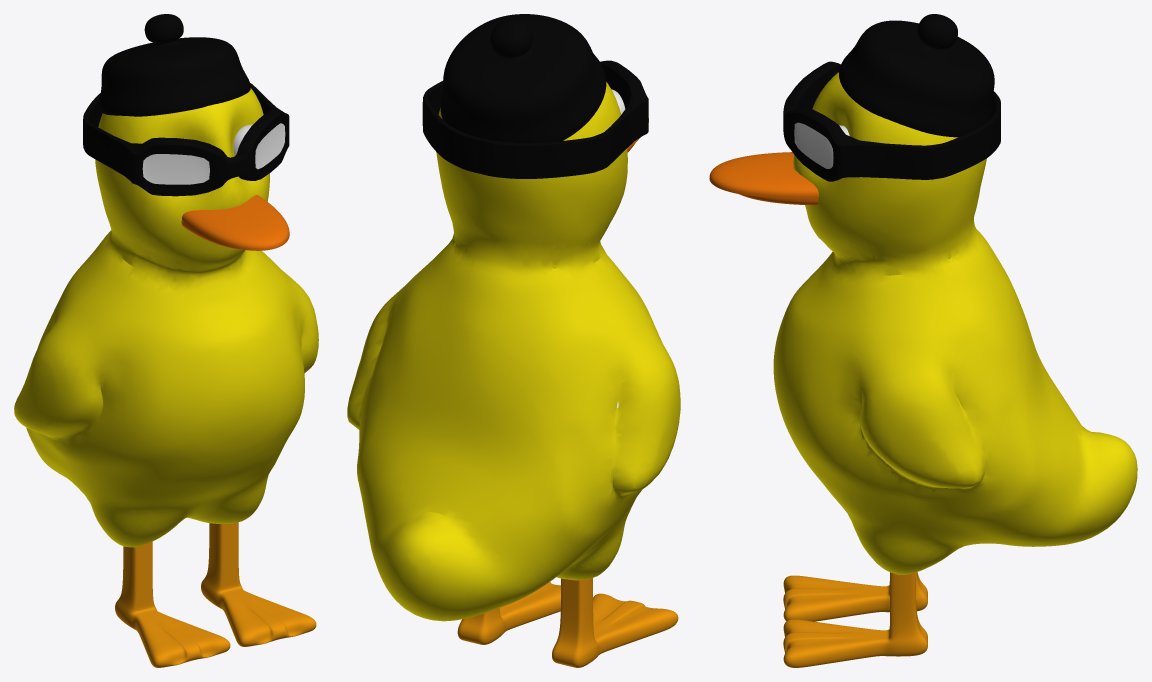
File: duck.glb
3 renders of one model, left to right at view 1: azimuth 30°, elevation 25°; view 2: azimuth 150°, elevation 25°; view 3: azimuth 270°, elevation 25°, orthographic. The views are drawn at different scales.
Visible parts, largest first — view 1: pato, patas, sombrero, lentes, pico; view 2: pato, sombrero, lentes, patas; view 3: pato, sombrero, patas, lentes, pico.
Part boxes in pixels (x1,y1,x2,y2): pato: (14, 88, 318, 547); patas: (115, 522, 316, 667); sombrero: (99, 14, 250, 116); lentes: (83, 83, 289, 196); pico: (181, 195, 289, 250); pato: (347, 82, 680, 621); sombrero: (440, 14, 606, 143); lentes: (422, 60, 648, 178); patas: (457, 578, 678, 667); pato: (773, 72, 1137, 574); sombrero: (839, 14, 994, 137); patas: (783, 572, 927, 667); lentes: (783, 61, 1000, 181); pico: (709, 152, 818, 205).
Size of the model in its own units: 3.23 by 6.52 by 4.13.
